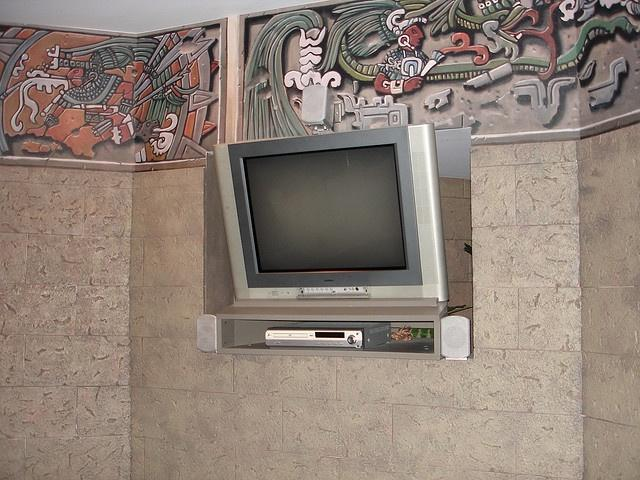AIO PC-Monitor-TV: (213, 121, 448, 304)
